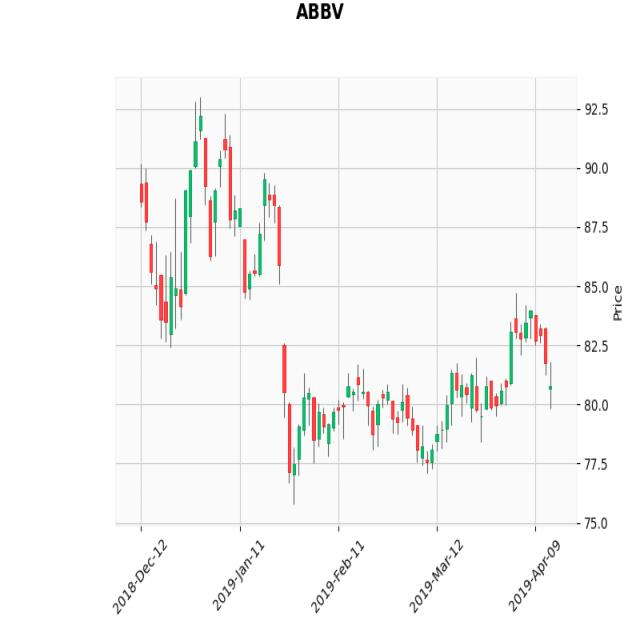Double-Top: (165, 85, 259, 325)
Inverse-Head-Shoulders: (351, 351, 518, 486)
